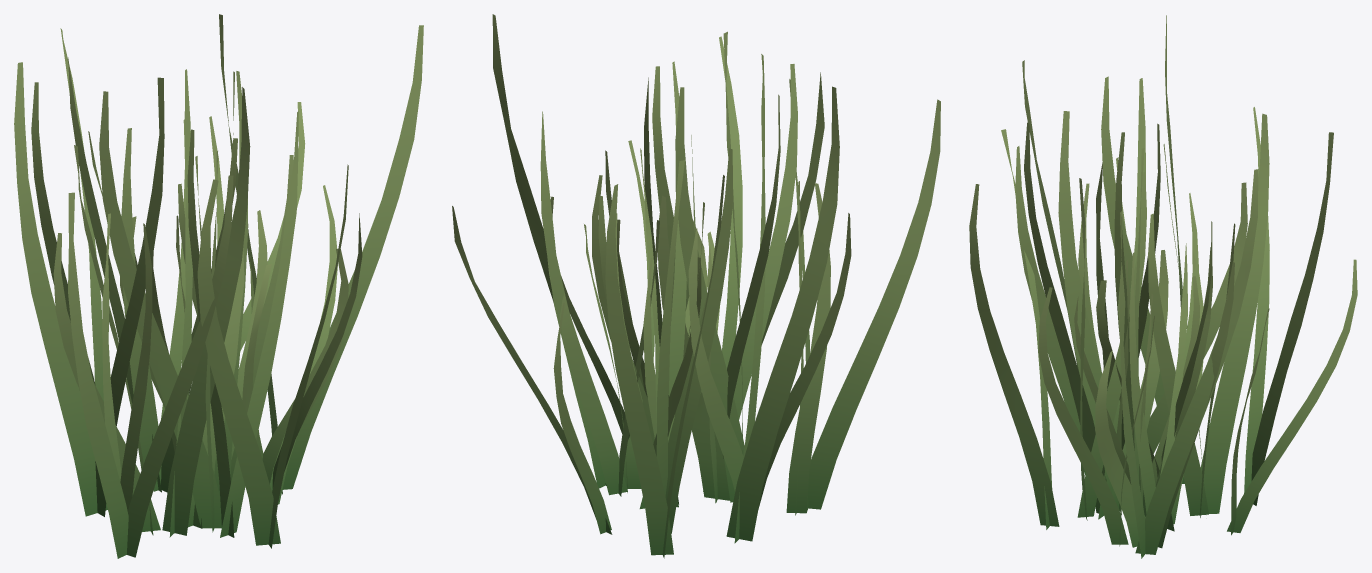
File: grass.glb
3 renders of one model, left to right at view 1: azimuth 30°, elevation 25°; view 2: azimuth 150°, elevation 25°; view 3: azimuth 270°, elevation 25°, orthographic. The views are drawn at different scales.
Parts seen in each view (by area): view 1: grass; view 2: grass; view 3: grass.
Boxes of the visible parts, x1,y1,x2,y2 form: grass: (14,14,423,558); grass: (452,14,940,558); grass: (969,15,1357,558).
Size of the model in its own units: 0.2674 by 0.2998 by 0.245.
